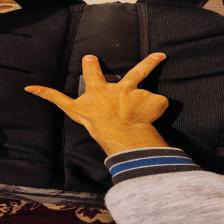three: (26, 51, 175, 128)
